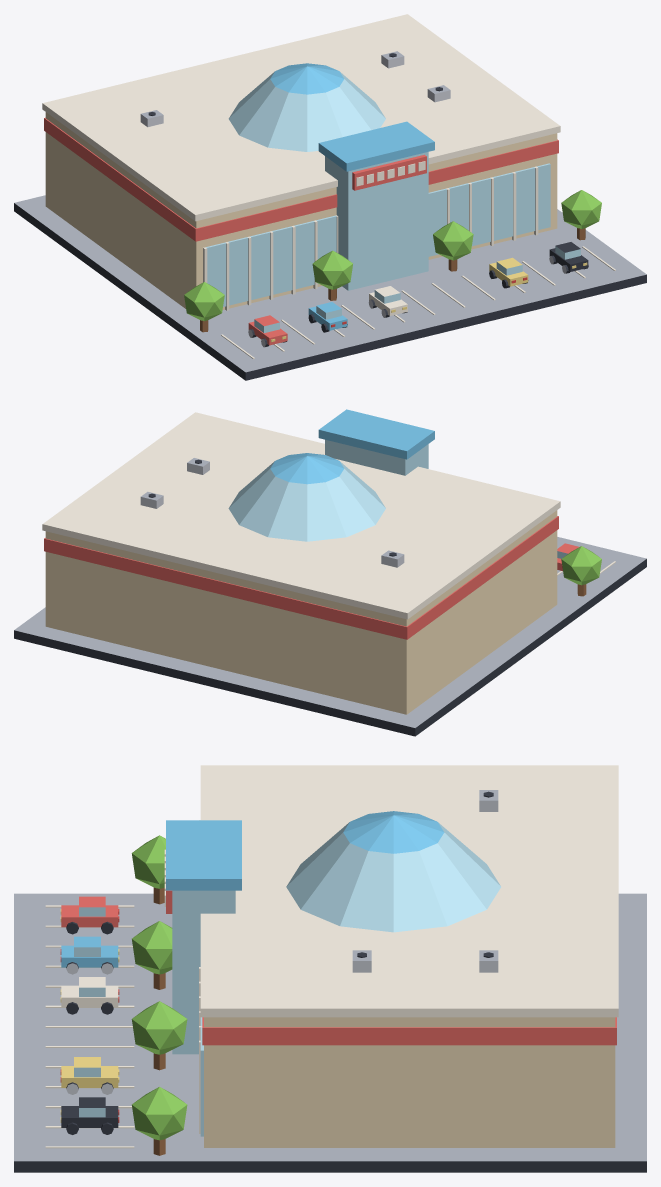
File: shop_mall.glb
The picture shows the model from 3 angles, top to bottom: view 1: azimuth 30°, elevation 25°; view 2: azimuth 150°, elevation 25°; view 3: azimuth 270°, elevation 25°; orthographic projection. The views are drawn at different scales.
Visible parts, largest first — view 1: shop_mall; view 2: shop_mall; view 3: shop_mall.
Boxes of the visible parts, x1,y1,x2,y2 form: shop_mall: (14,14,646,380); shop_mall: (14,409,646,736); shop_mall: (14,765,646,1172).
Bounding box in the file's own units: 2.06 × 0.78 × 2.
